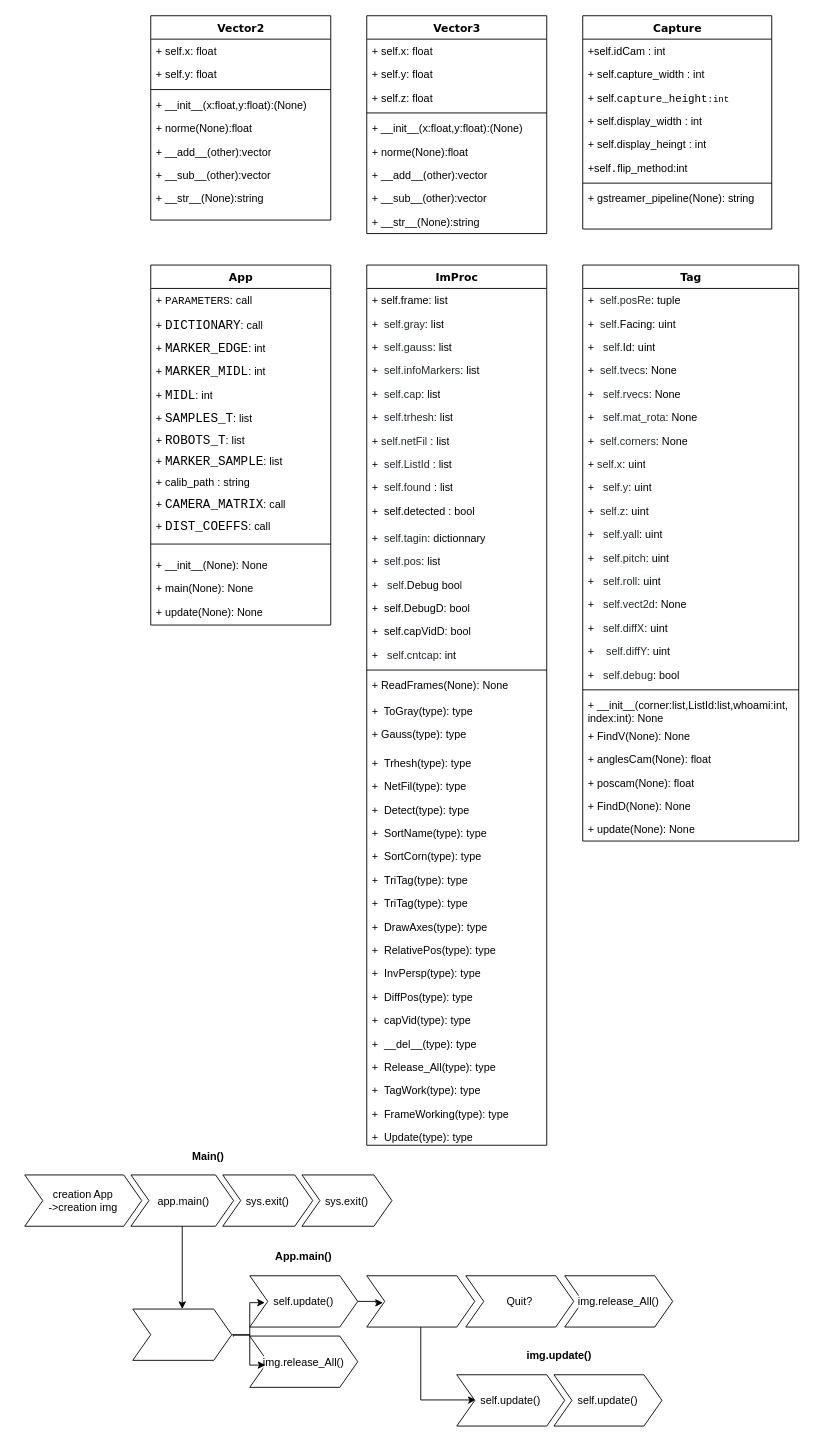
Image size: 815x1451. Some labels were removed from this diagram. Here are the shapes that lost their labels. From the top down, the centre of each, then its label:
At pixel 420 1301: "img.update".
At pixel 182 1334: "Running?".
